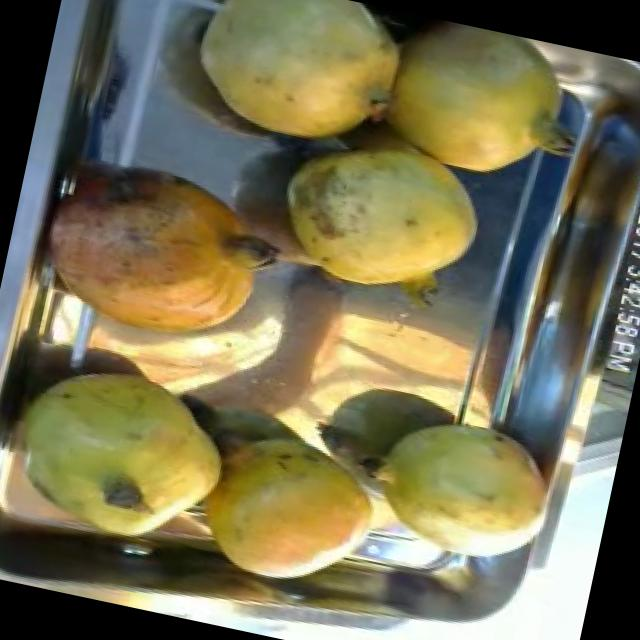fruit: (11, 132, 295, 370), (0, 337, 259, 576), (252, 111, 509, 328), (165, 403, 410, 616), (350, 8, 592, 210), (334, 389, 572, 584), (164, 0, 428, 170)
